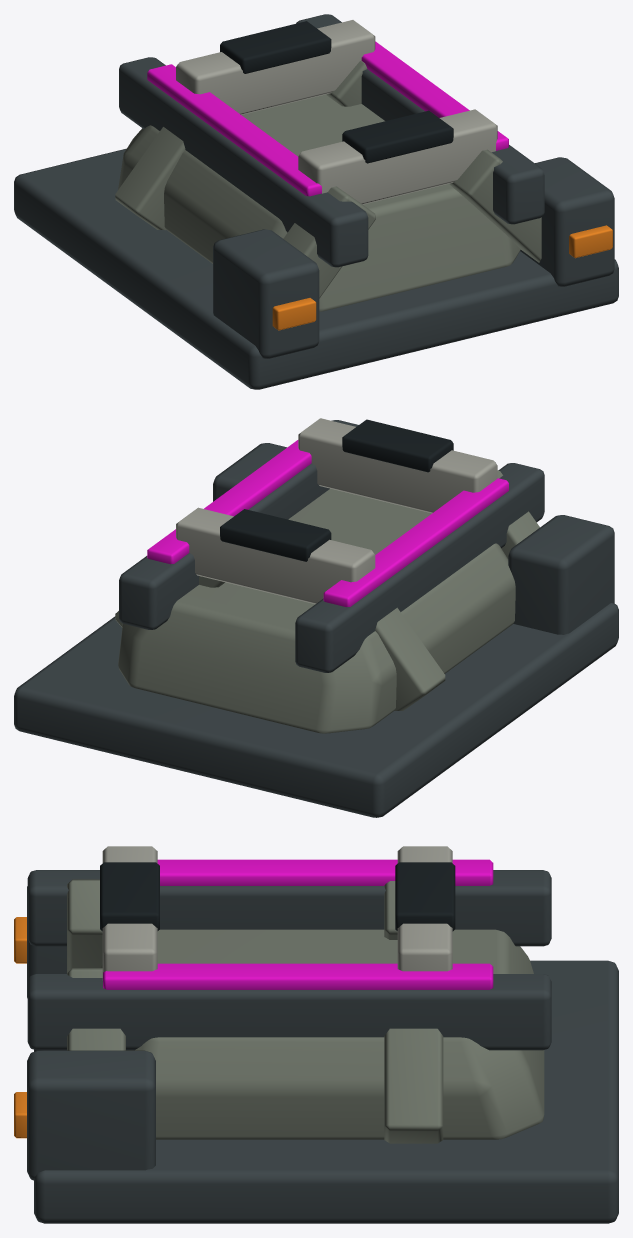
The model's file is military-truck-scud.glb.
3 renders of one model, top to bottom at view 1: azimuth 30°, elevation 25°; view 2: azimuth 150°, elevation 25°; view 3: azimuth 270°, elevation 25°, orthographic. The views are drawn at different scales.
Visible parts, largest first — view 1: TurretShell; view 2: TurretShell; view 3: TurretShell.
Part boxes in pixels (box(x1,y1,x2,y2)): TurretShell: box(14, 14, 618, 389); TurretShell: box(14, 418, 618, 817); TurretShell: box(14, 846, 618, 1223).
Bounding box in the file's own units: 1.22 × 0.604 × 1.43.
